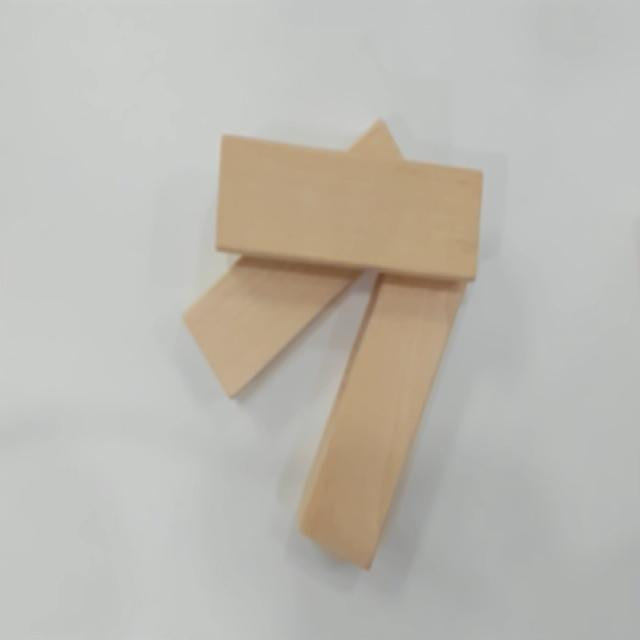Jenga: (178, 116, 426, 400), (296, 229, 468, 572), (216, 134, 483, 290)
